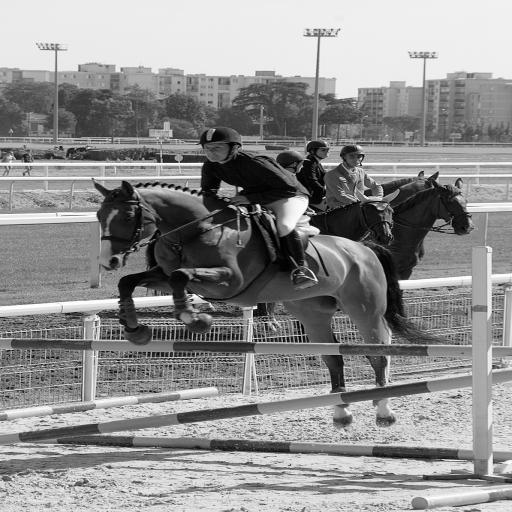horse: (91, 173, 460, 431), (145, 182, 399, 334), (256, 176, 476, 332), (363, 172, 475, 277), (381, 170, 445, 208), (356, 170, 428, 196)
